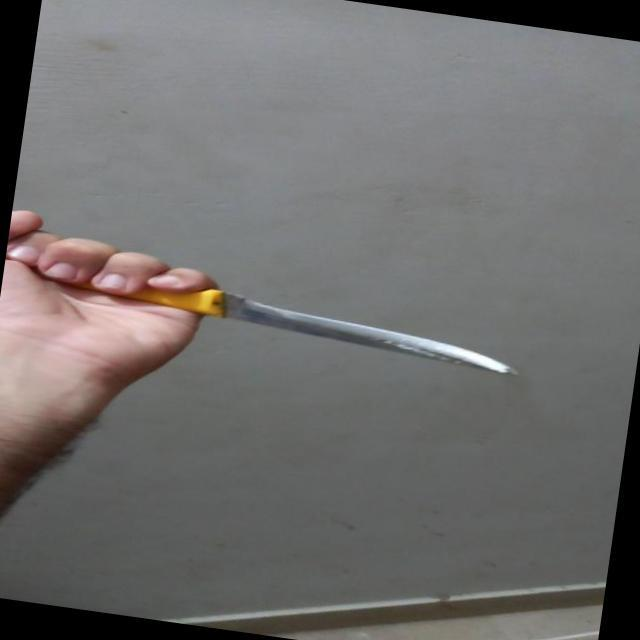Knife: (3, 204, 545, 399)
